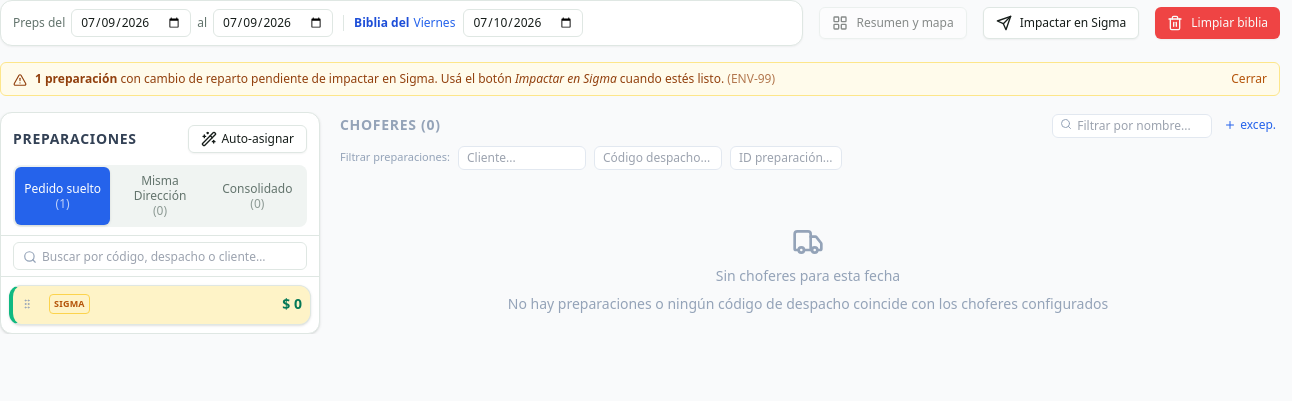
Test: BibleDashboard — botón Impactar en Sigma › muestra el aviso de error de Sigma cuando el resultado trae error
Step 1. Click the button "Impactar en Sigma" → click(1061, 23), box left=983, top=7, right=1139, bottom=39
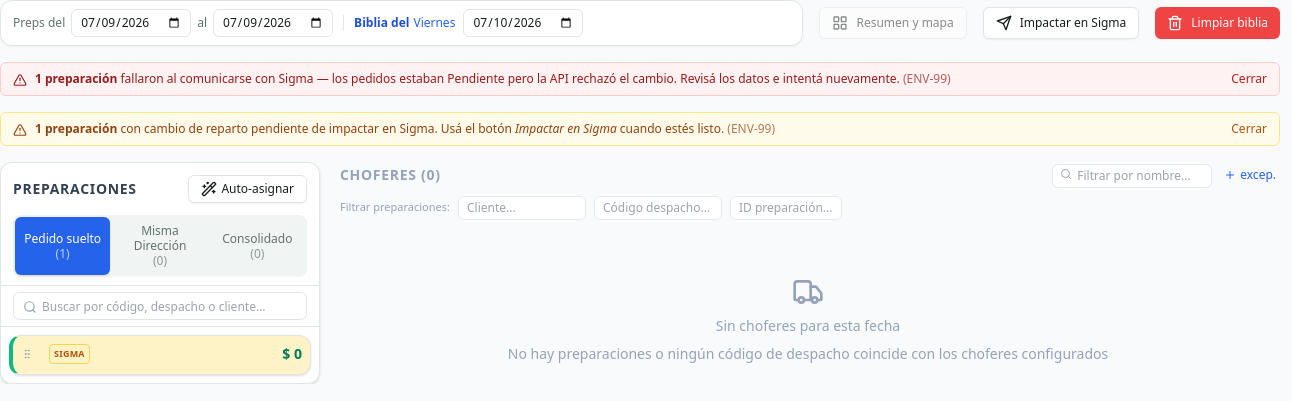
Now the text "fallaron al comunicarse con Sigma" is shown, box left=117, top=70, right=900, bottom=87
Now the 1st text "(ENV-99)" is shown, box left=903, top=70, right=951, bottom=87
Now the text "intentá nuevamente. (ENV-99)" is shown, box left=35, top=70, right=951, bottom=87
